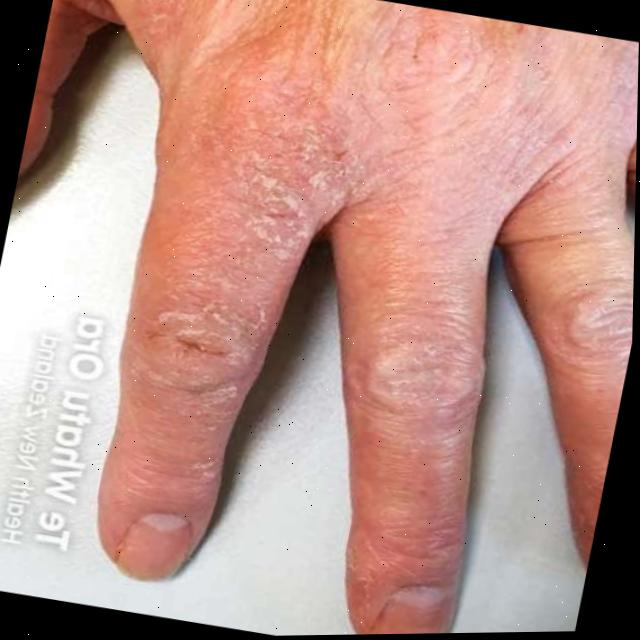Eczema: (118, 47, 639, 564)
